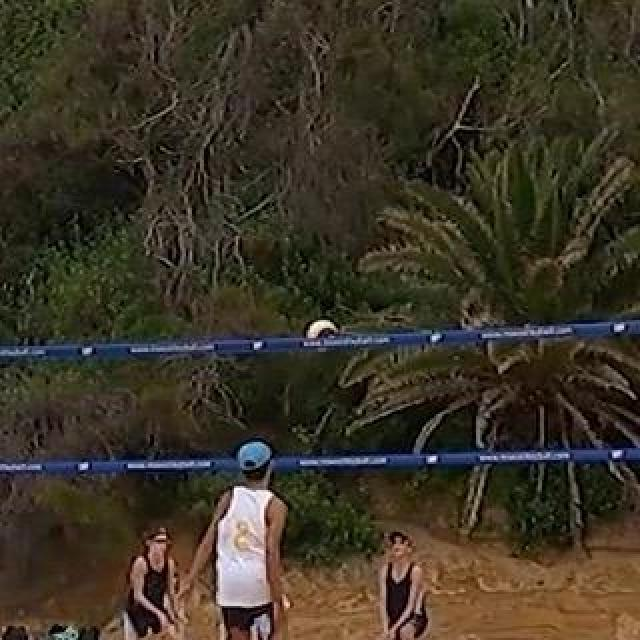volleyball: (310, 321, 340, 349)
